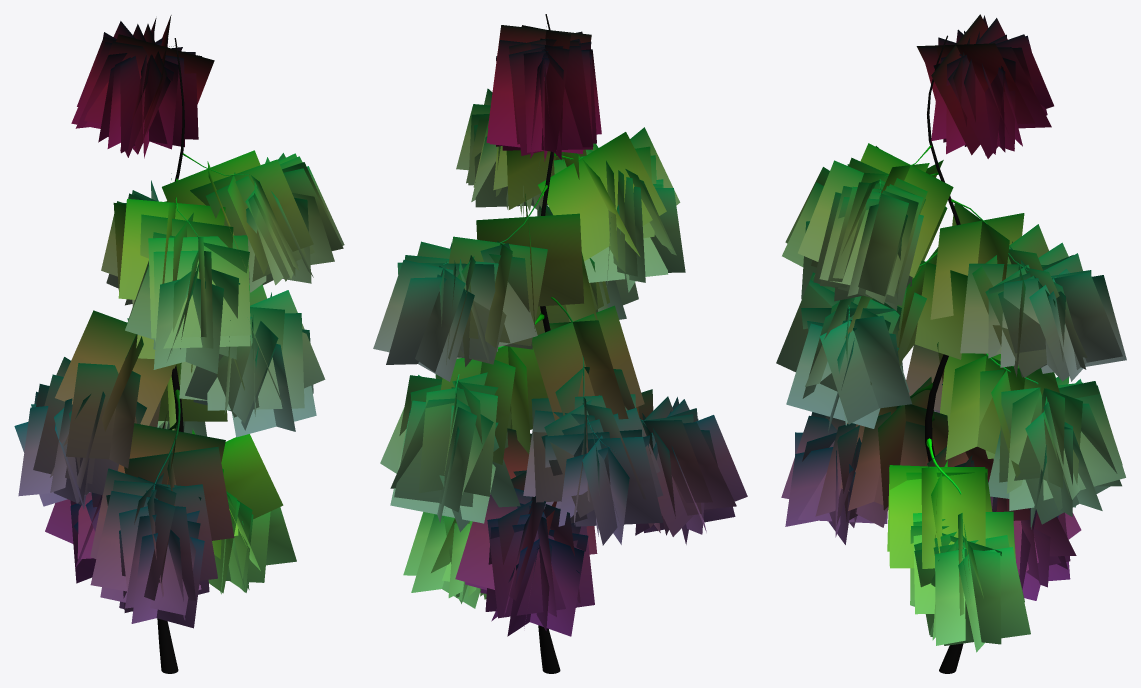
Rendered from URP_P13_Tree_1_LOD_0.fbx.
The picture shows the model from 3 angles, left to right: view 1: azimuth 30°, elevation 25°; view 2: azimuth 150°, elevation 25°; view 3: azimuth 270°, elevation 25°; orthographic projection. The views are drawn at different scales.
Parts seen in each view (by area): view 1: Tree_1_LOD_0; view 2: Tree_1_LOD_0; view 3: Tree_1_LOD_0.
Boxes of the visible parts, x1,y1,x2,y2 form: Tree_1_LOD_0: (14,15,344,673); Tree_1_LOD_0: (373,14,747,673); Tree_1_LOD_0: (776,14,1126,673).
Size of the model in its own units: 331 by 785 by 391.
